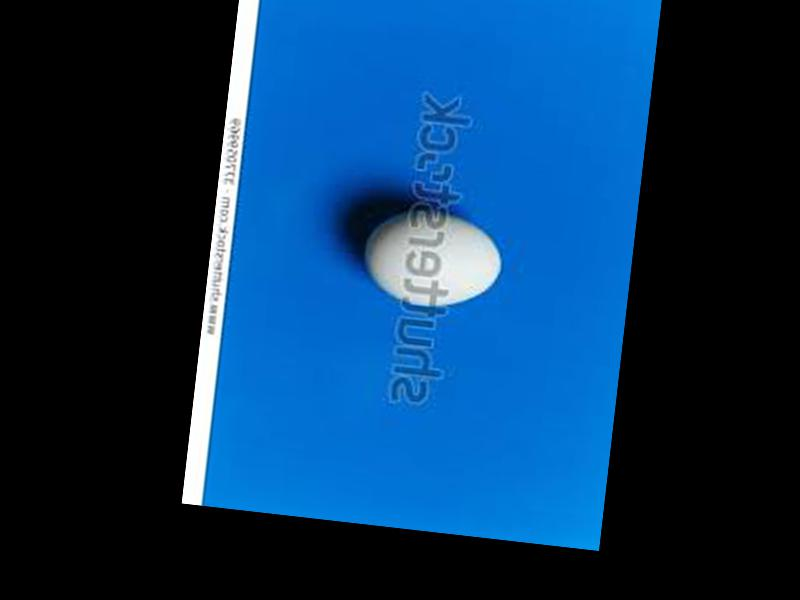Eggs: (360, 204, 510, 312)
